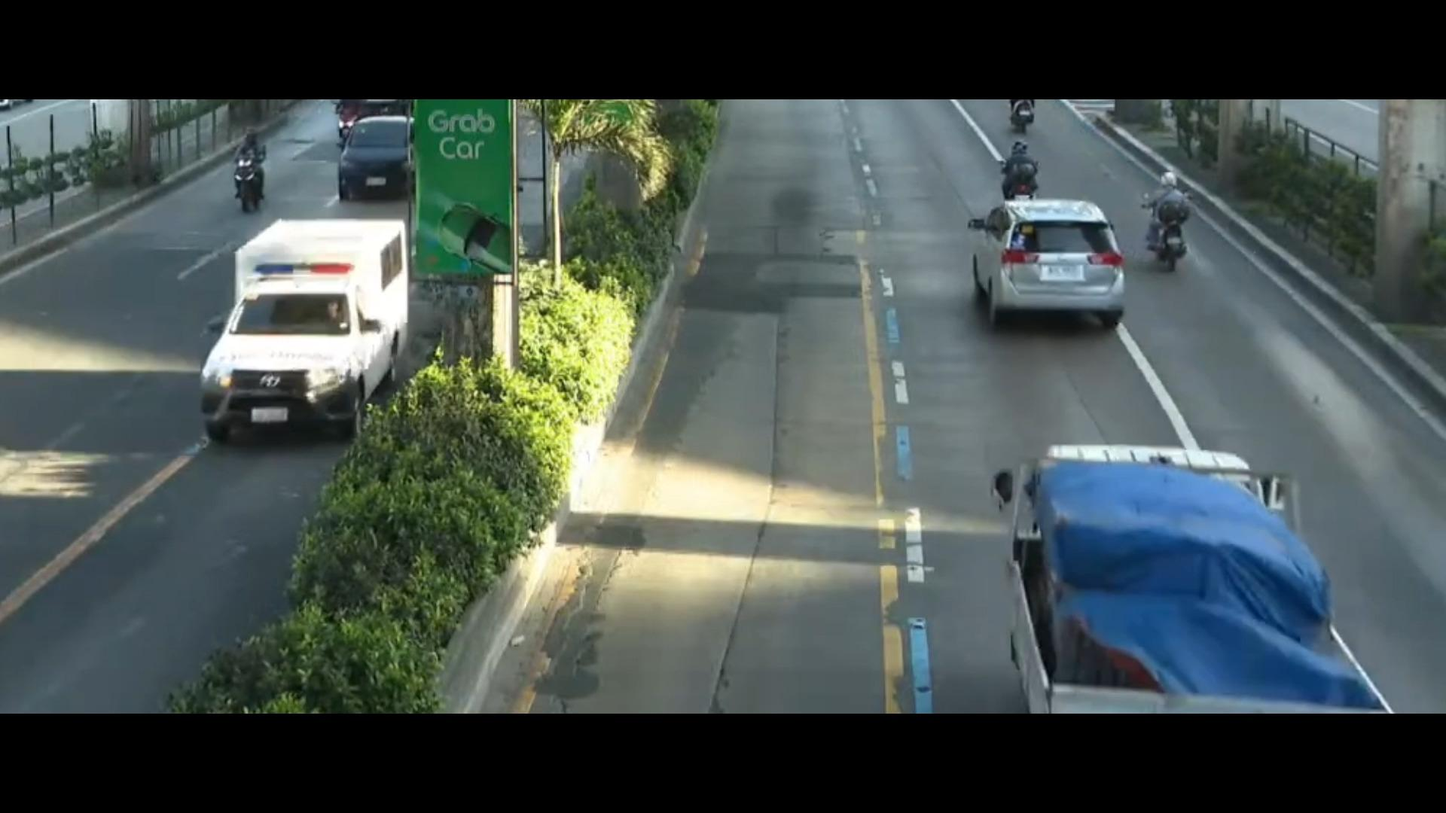Motorcycle: (224, 115, 286, 230), (989, 142, 1062, 214), (1147, 174, 1202, 256), (1000, 89, 1031, 134)
Multicab: (200, 215, 424, 441)
SUV: (974, 183, 1159, 334), (320, 111, 414, 199)
Truck: (987, 407, 1396, 721)
